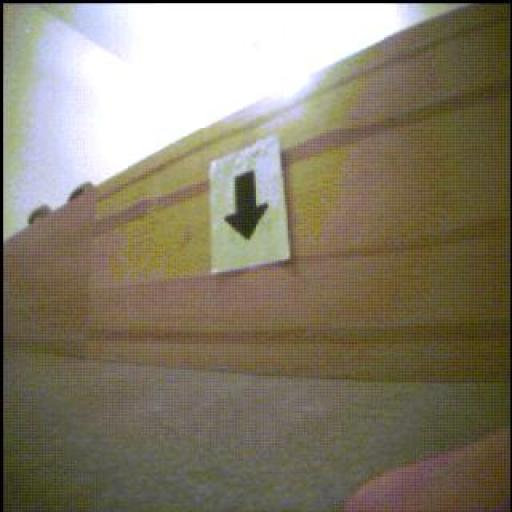arrow: (227, 173, 268, 240)
